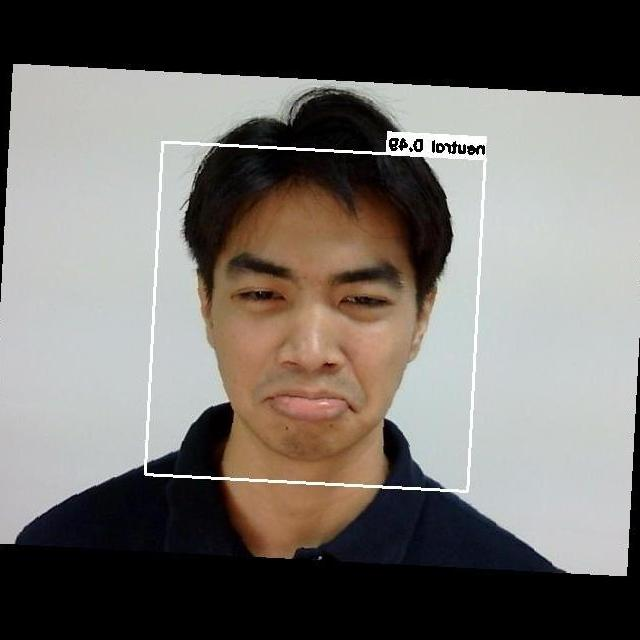Sad: (195, 209, 441, 457)
